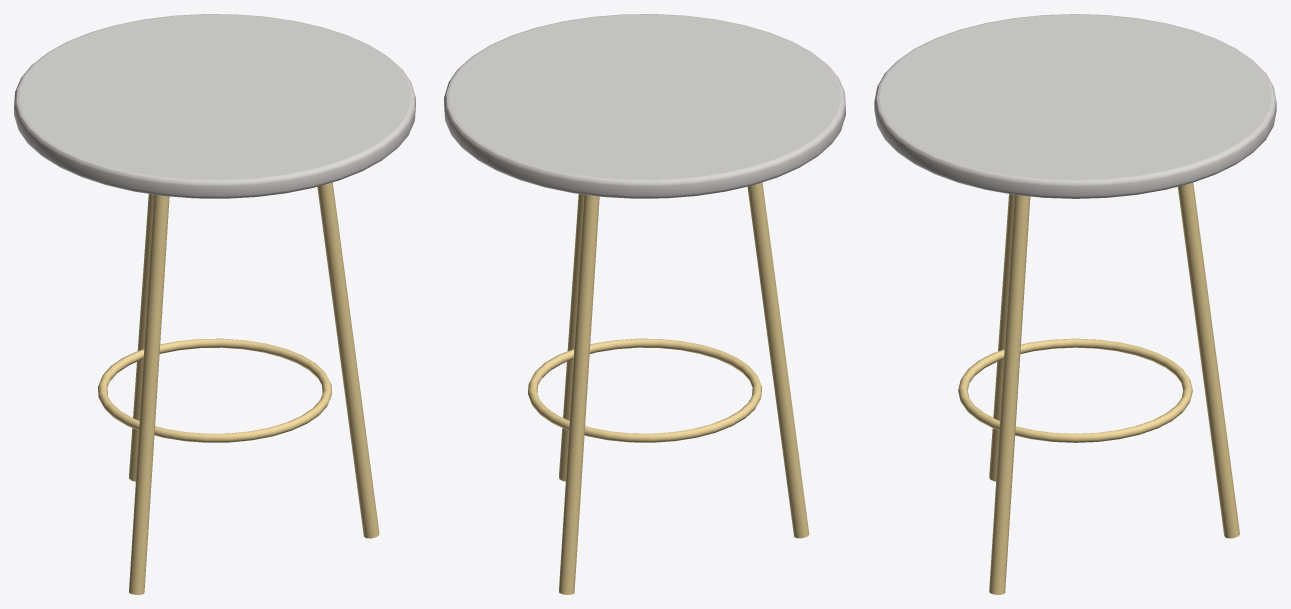
The model's file is side_table.glb.
The picture shows the model from 3 angles, left to right: view 1: azimuth 30°, elevation 25°; view 2: azimuth 150°, elevation 25°; view 3: azimuth 270°, elevation 25°; orthographic projection.
Parts seen in each view (by area): view 1: top, leg.001, leg.002, ring, leg; view 2: top, leg, leg.001, ring, leg.002; view 3: top, leg.002, leg, ring, leg.001.
Boxes of the visible parts, box(x1,y1,x2,y2) form: top: box(14, 14, 415, 198); leg.001: box(129, 194, 169, 594); leg.002: box(317, 182, 379, 538); ring: box(97, 338, 332, 442); leg: box(129, 194, 153, 481); top: box(444, 14, 845, 198); leg: box(559, 194, 599, 594); leg.001: box(747, 182, 809, 538); ring: box(528, 338, 762, 442); leg.002: box(559, 194, 583, 481); top: box(874, 14, 1276, 198); leg.002: box(989, 195, 1030, 594); leg: box(1177, 183, 1239, 538); ring: box(958, 338, 1192, 442); leg.001: box(989, 194, 1014, 481).
Size of the model in its own units: 0.5 by 0.6016 by 0.5.
